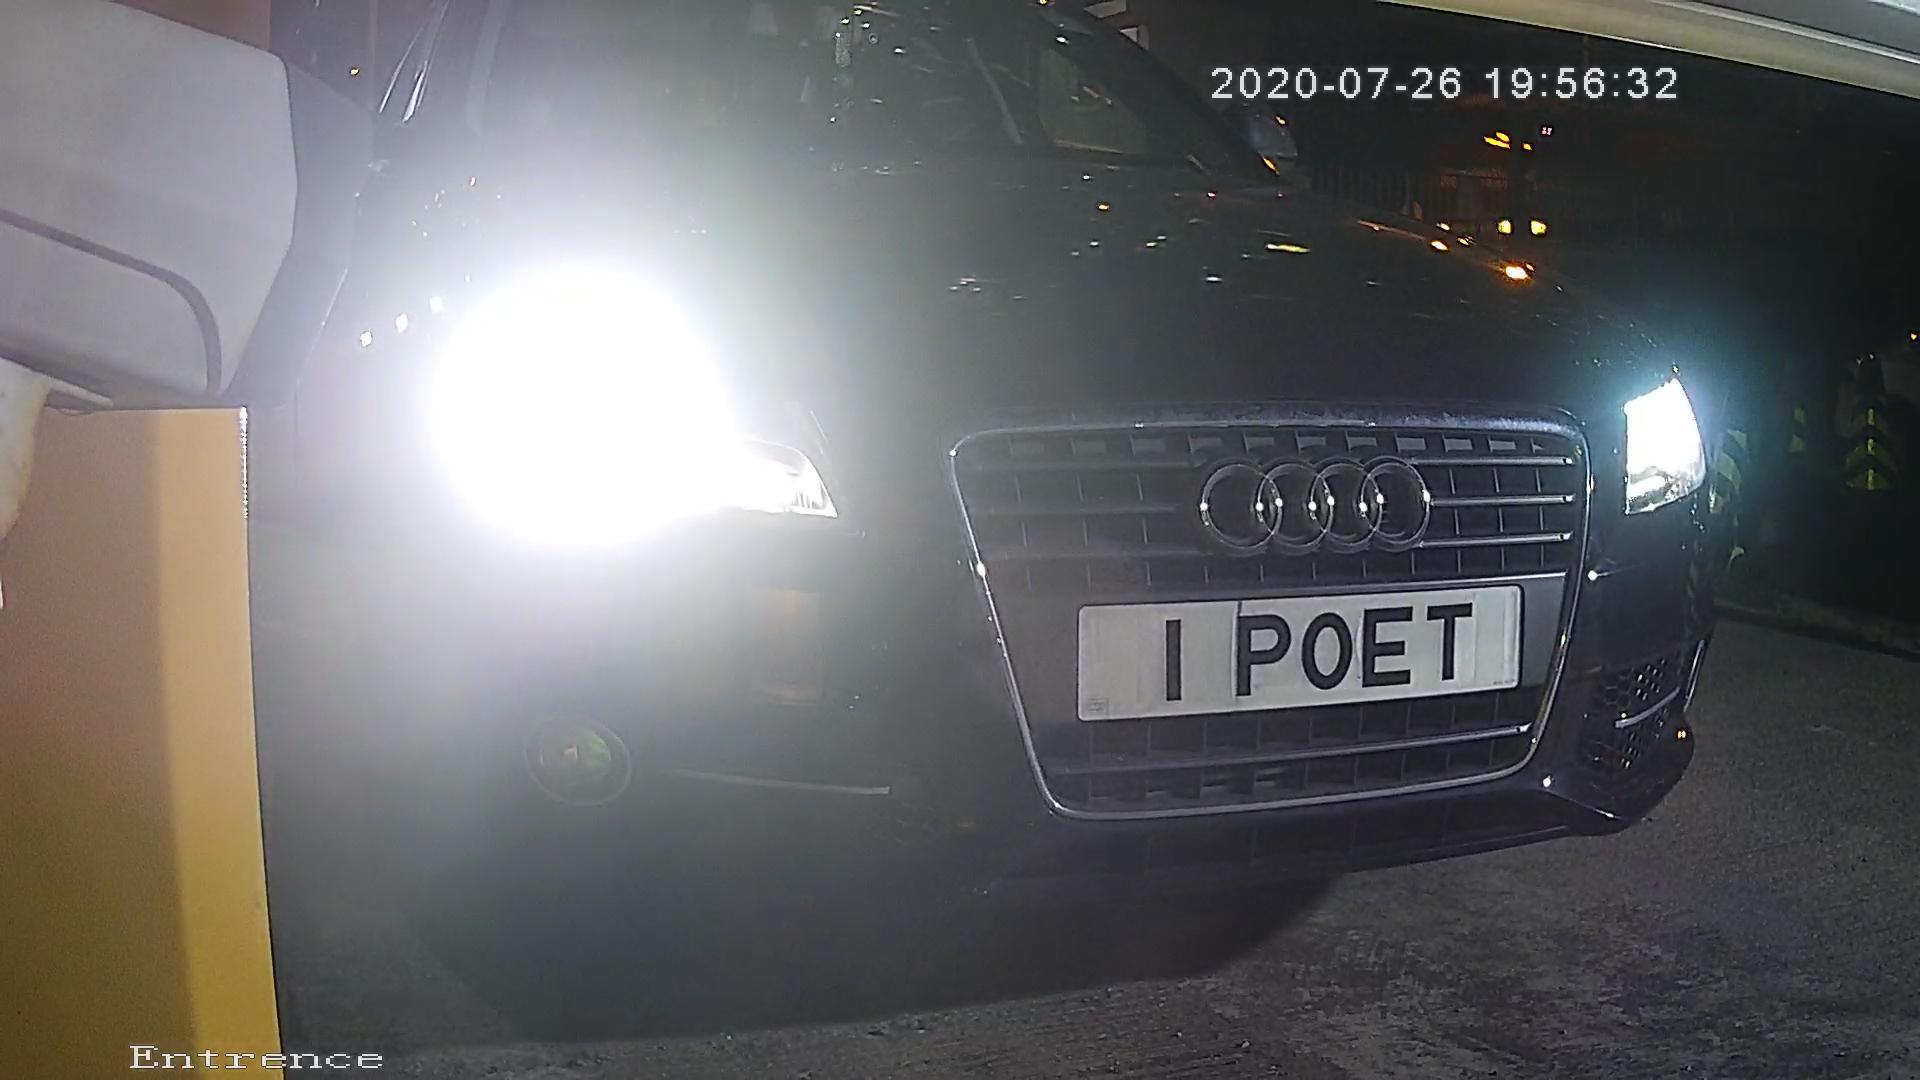Car: (1, 15, 1886, 970)
License Plate: (1063, 574, 1518, 724)
